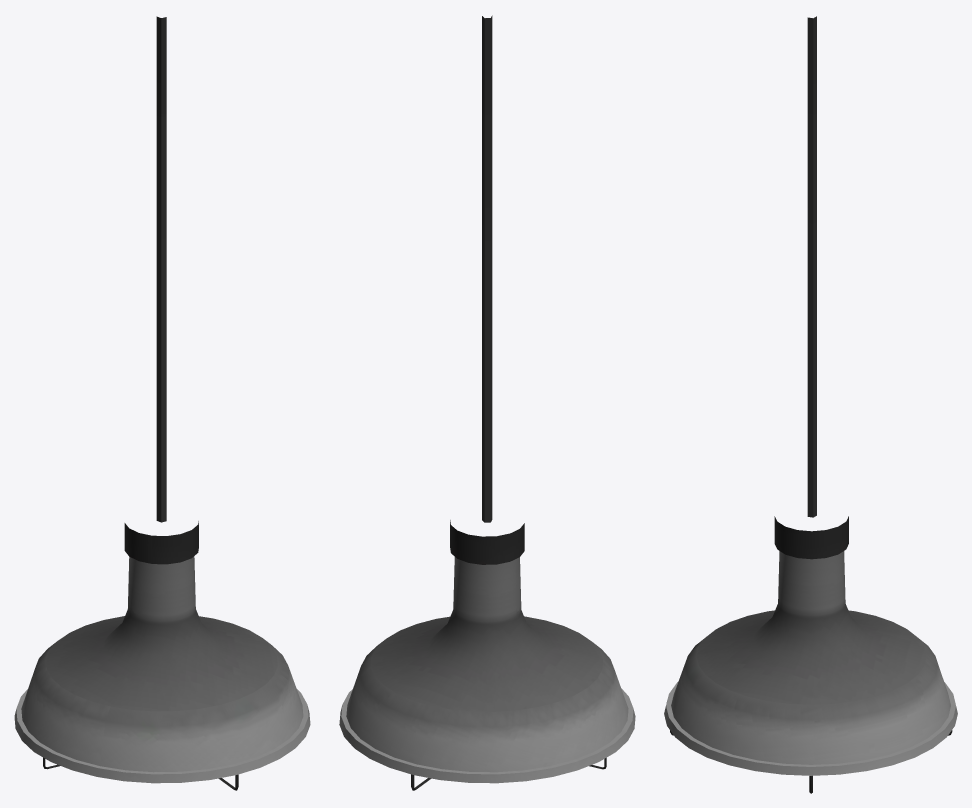
3 renders of one model, left to right at view 1: azimuth 30°, elevation 25°; view 2: azimuth 150°, elevation 25°; view 3: azimuth 270°, elevation 25°, orthographic.
Visible parts, largest first — view 1: body0_model0_lod0_mesh0; view 2: body0_model0_lod0_mesh0; view 3: body0_model0_lod0_mesh0.
Part boxes in pixels (box(x1,y1,x2,y2)): body0_model0_lod0_mesh0: box(14, 16, 310, 790); body0_model0_lod0_mesh0: box(339, 15, 635, 790); body0_model0_lod0_mesh0: box(664, 16, 957, 793).
Bounding box in the file's own units: 29.78 × 80.28 × 29.78.
Materials: 1 (1 with a texture image).
